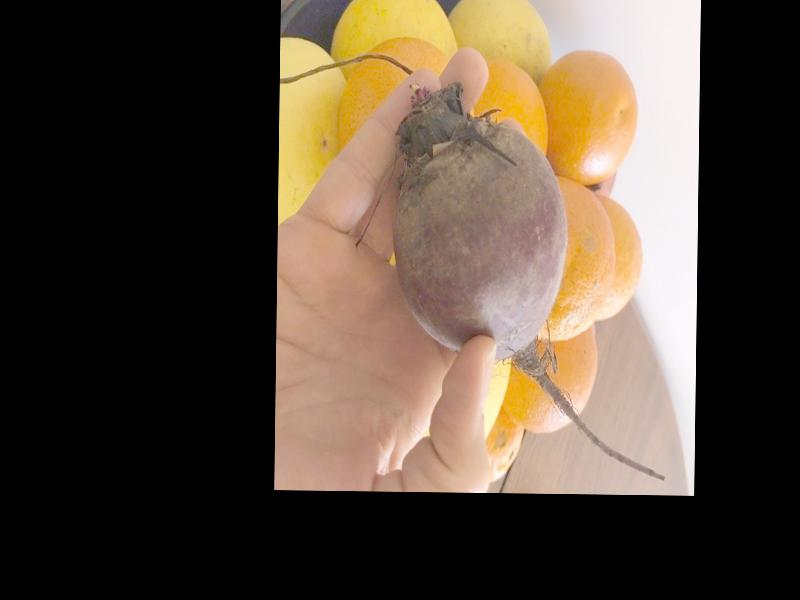Beet: (390, 88, 670, 480)
